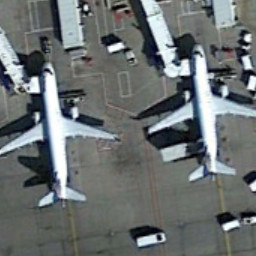Airplane: (1, 56, 122, 211), (141, 36, 256, 189)
